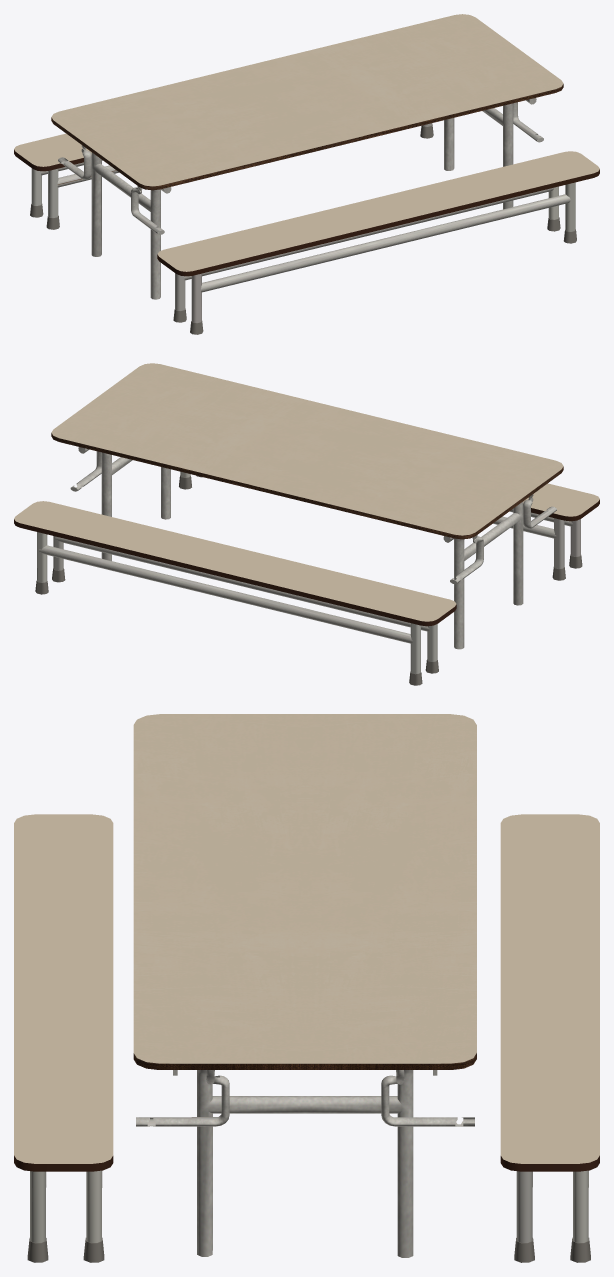
The picture shows the model from 3 angles, top to bottom: view 1: azimuth 30°, elevation 25°; view 2: azimuth 150°, elevation 25°; view 3: azimuth 270°, elevation 25°; orthographic projection. The views are drawn at different scales.
Parts seen in each view (by area): view 1: cafeteria_table.014, Цилиндр.001, Цилиндр; view 2: cafeteria_table.014, Цилиндр, Цилиндр.001; view 3: cafeteria_table.014, Цилиндр, Цилиндр.001.
Boxes of the visible parts, left/top/right/bottom form: cafeteria_table.014: left=51, top=14, right=563, bottom=299; Цилиндр.001: left=157, top=151, right=599, bottom=334; Цилиндр: left=14, top=123, right=433, bottom=229; cafeteria_table.014: left=51, top=363, right=563, bottom=649; Цилиндр: left=14, top=501, right=456, bottom=685; Цилиндр.001: left=179, top=471, right=599, bottom=580; cafeteria_table.014: left=133, top=714, right=476, bottom=1257; Цилиндр: left=500, top=814, right=599, bottom=1262; Цилиндр.001: left=14, top=814, right=113, bottom=1262.
Bounding box in the file's own units: 183 × 54.73 × 130.
